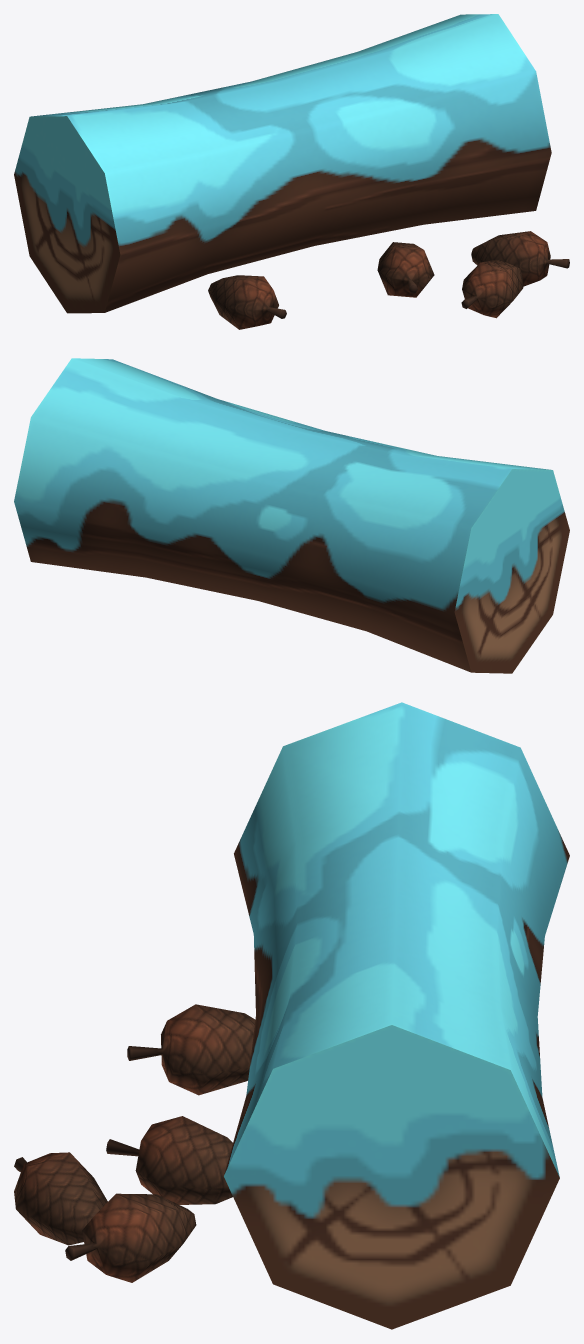
The model's file is Log_and_PineFruit.FBX.
3 renders of one model, top to bottom at view 1: azimuth 30°, elevation 25°; view 2: azimuth 150°, elevation 25°; view 3: azimuth 270°, elevation 25°, orthographic. The views are drawn at different scales.
Parts seen in each view (by area): view 1: TreeLog; view 2: TreeLog; view 3: TreeLog.
Part boxes in pixels (x1,y1,x2,y2): TreeLog: [14, 14, 569, 329]; TreeLog: [14, 358, 569, 673]; TreeLog: [14, 702, 569, 1329].
Bounding box in the file's own units: 57.01 × 24.97 × 41.29.
1 material, 1 textured.
